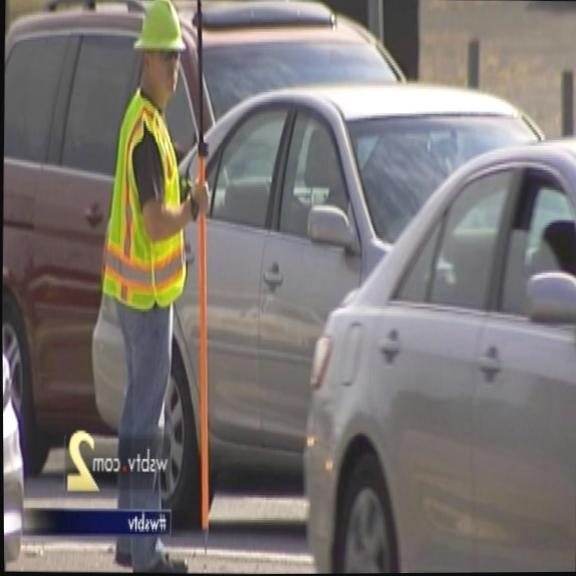safety_vest: (101, 106, 192, 315)
